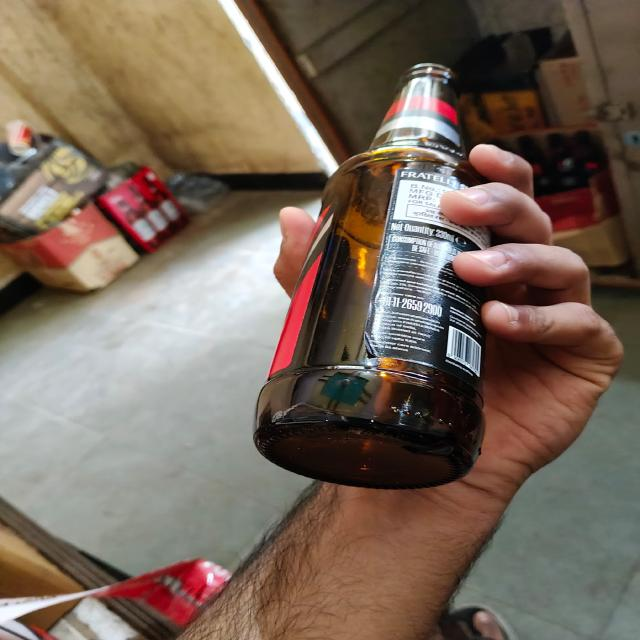Alcohol-Bottle-Detection: (272, 52, 468, 474)
